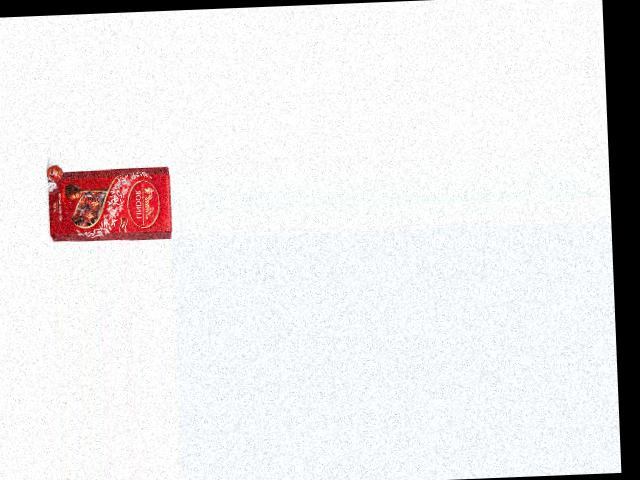chocolate: (47, 159, 172, 242)
